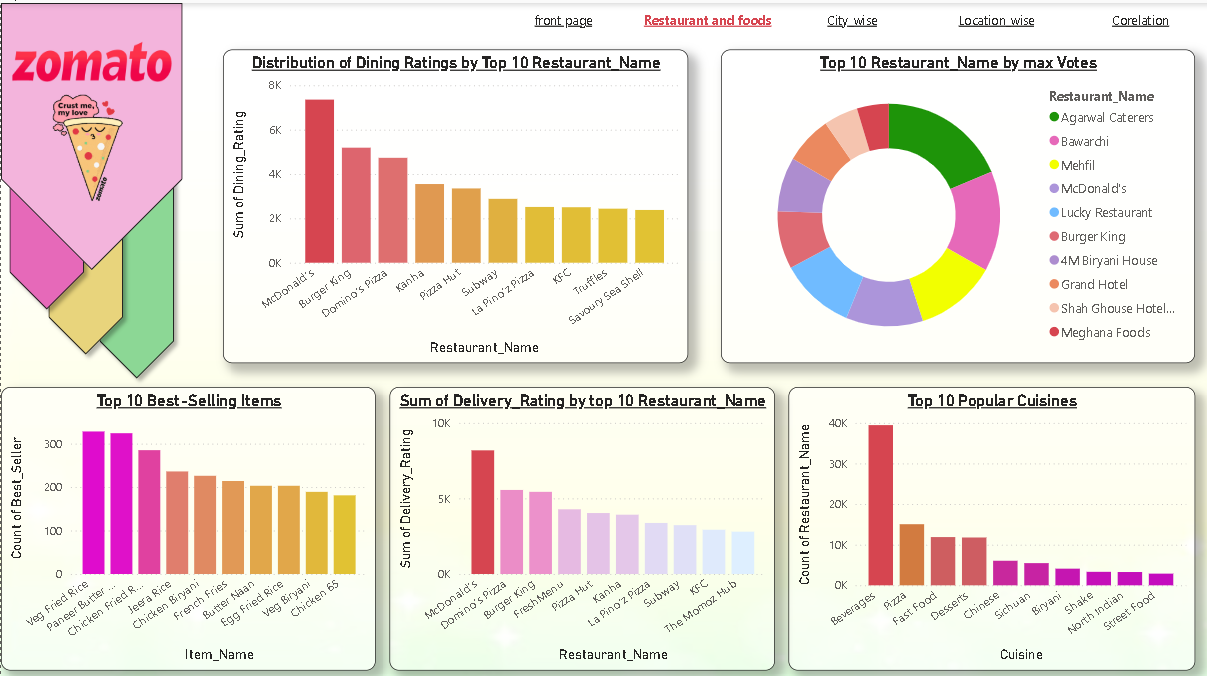

Layout of this report page (visuals, bound fields, positions):
{"tool":"powerbi","page":{"name":"Restaurant and foods","canvas":[1280,720],"ordinal":1},"visuals":[{"type":"shape","box":[95.4,73.2,97,334],"z":0},{"type":"shape","box":[41.4,47.7,97,334],"z":1000},{"type":"shape","box":[0,0,97,334],"z":2000},{"type":"clusteredColumnChart","title":"Distribution of Dining Ratings by Top 10 Restaurant_Name","fields":{"Y":["Sum(zomato_dataset.Dining_Rating)"],"Category":["zomato_dataset.Restaurant_Name"]},"box":[235.4,49.3,493.1,332.4],"z":3000},{"type":"clusteredColumnChart","title":"Sum of Delivery_Rating by top 10 Restaurant_Name","fields":{"Category":["zomato_dataset.Restaurant_Name"],"Y":["Sum(zomato_dataset.Delivery_Rating)"]},"box":[412,407.2,408.8,300.6],"z":4000},{"type":"clusteredColumnChart","title":"Top 10 Popular Cuisines","fields":{"Category":["zomato_dataset.Cuisine "],"Y":["CountNonNull(zomato_dataset.Restaurant_Name)"]},"box":[835.1,407.2,431.1,300.6],"z":5000},{"type":"clusteredColumnChart","title":"Top 10 Best-Selling Items","fields":{"Category":["zomato_dataset.Item_Name"],"Y":["CountNonNull(zomato_dataset.Best_Seller)"]},"box":[0,407.2,397.7,300.6],"z":6000},{"type":"shape","box":[0,0,192.5,283.1],"z":7000},{"type":"image","box":[4.8,0,182.9,124.1],"z":8000},{"type":"donutChart","title":"Top 10 Restaurant_Name by max Votes ","fields":{"Category":["zomato_dataset.Restaurant_Name"],"Y":["Sum(zomato_dataset.Votes)"]},"box":[763.5,49.3,502.6,332.4],"z":9000},{"type":"pageNavigator","box":[524.5,0,755.5,35],"z":10000},{"type":"actionButton","box":[33.4,92.3,122.5,124.1],"z":10001}]}

Visuals, with their boxes in screenshot pixels (x1, y1, x2, y2), scaled from the page's 1280x720 canvas onto the 1207x676 screenshot:
shape: [90, 69, 181, 382]
shape: [39, 45, 131, 358]
shape: [0, 0, 91, 314]
"Distribution of Dining Ratings by Top 10 Restaurant_Name" clusteredColumnChart: [222, 46, 687, 358]
"Sum of Delivery_Rating by top 10 Restaurant_Name" clusteredColumnChart: [389, 382, 774, 665]
"Top 10 Popular Cuisines" clusteredColumnChart: [787, 382, 1194, 665]
"Top 10 Best-Selling Items" clusteredColumnChart: [0, 382, 375, 665]
shape: [0, 0, 182, 266]
image: [5, 0, 177, 117]
"Top 10 Restaurant_Name by max Votes " donutChart: [720, 46, 1194, 358]
pageNavigator: [495, 0, 1206, 33]
actionButton: [31, 87, 147, 203]
